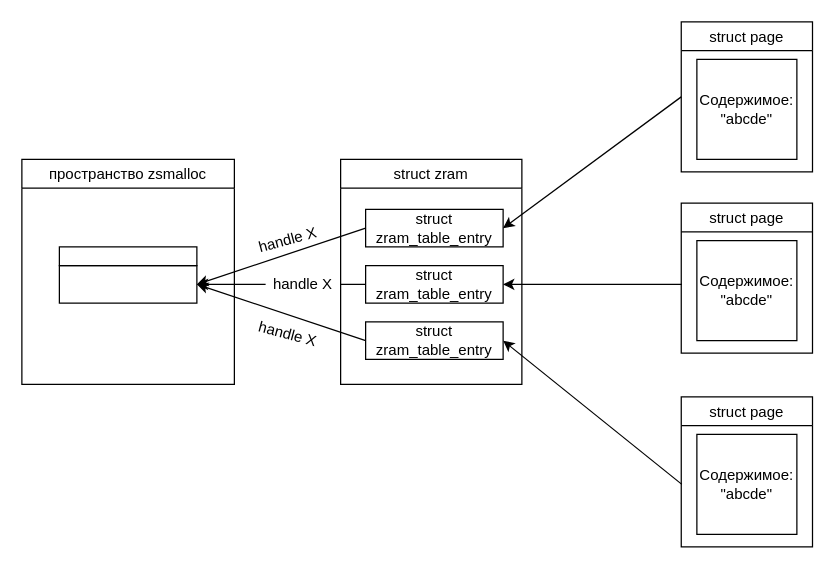
This 835x569 diagram has some shape labels left out. The shapes that lost their labels are listed below. From the top down, each one's centre as x and y in pixels, then its label:
the point at 127,256: счетчик ссылок = 3
the point at 127,283: сжатые данные
